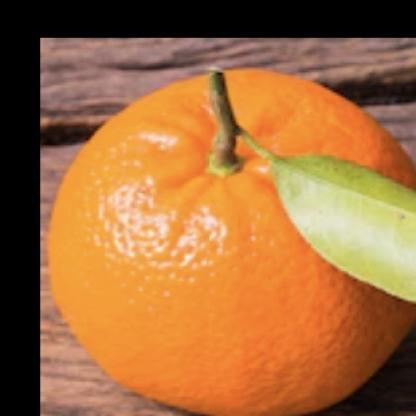fresh: (49, 67, 416, 416)
